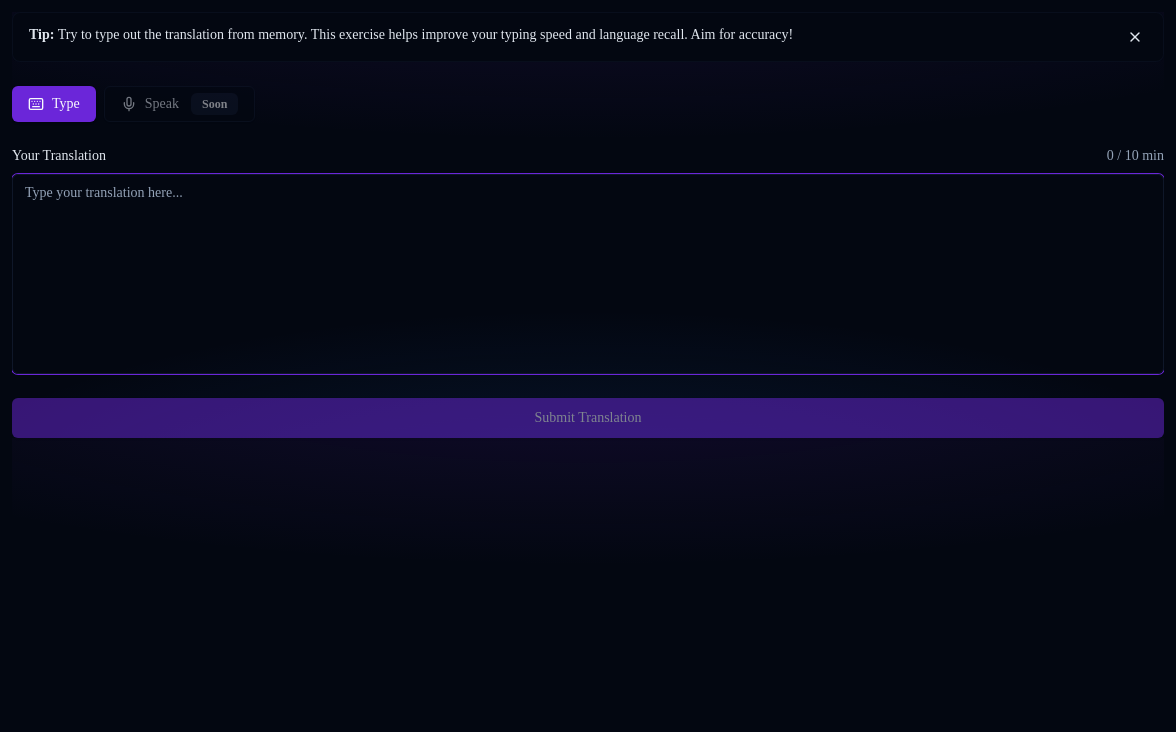
Test case: ExerciseForm › dismisses the tip banner when close button is clicked
The image size is (1176, 732).
Click the button named "Dismiss tip" at (1135, 37), box [1123,25,1147,49]
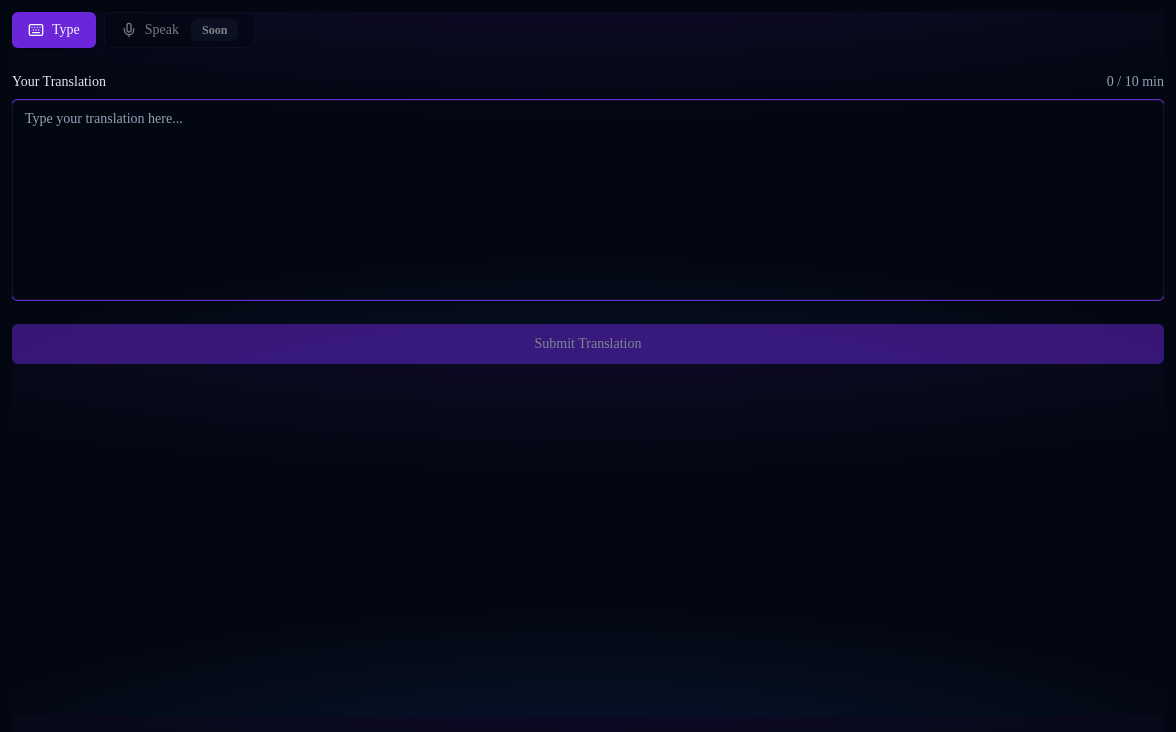
expect the text "Try to type out the translation from memory" is gone: met
